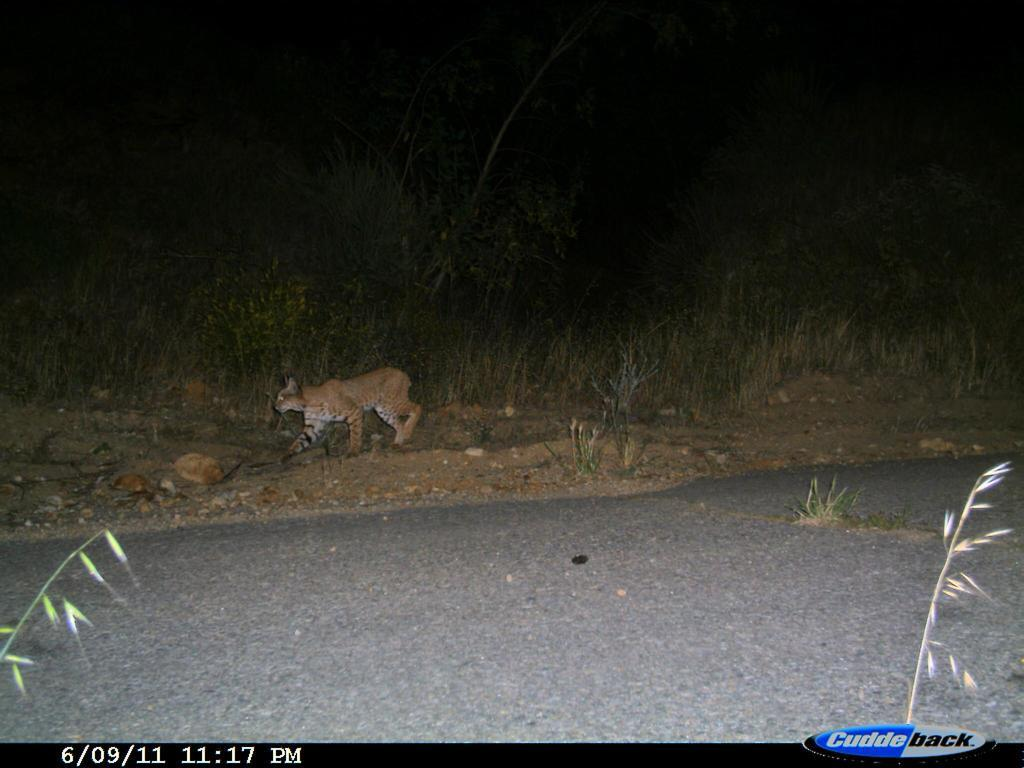bobcat: (271, 355, 425, 470)
